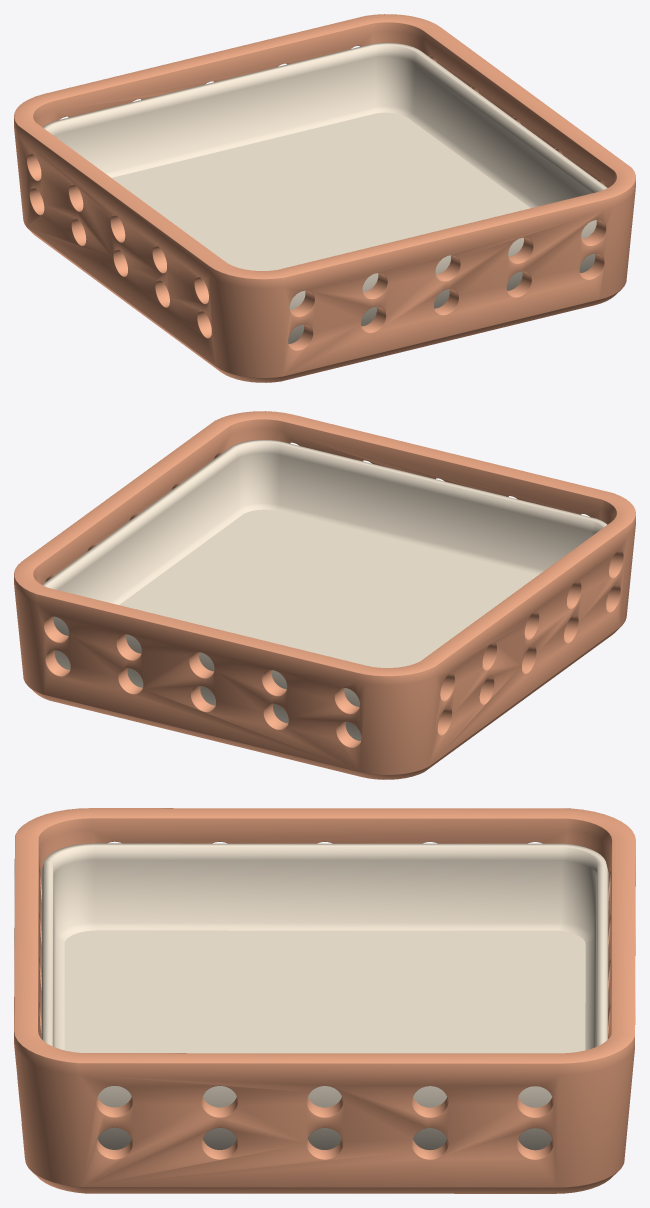
File: basket-BederzvH.glb
3 views of the same model, one above another, from view 1: azimuth 30°, elevation 25°; view 2: azimuth 150°, elevation 25°; view 3: azimuth 270°, elevation 25° (orthographic). The views are drawn at different scales.
Parts seen in each view (by area): view 1: basket_shell, basket_liner; view 2: basket_shell, basket_liner; view 3: basket_liner, basket_shell.
Part boxes in pixels (bbox=[...]): basket_shell: bbox=[14, 14, 635, 382]; basket_liner: bbox=[43, 42, 607, 343]; basket_shell: bbox=[14, 411, 635, 779]; basket_liner: bbox=[42, 439, 607, 740]; basket_liner: bbox=[41, 843, 608, 1150]; basket_shell: bbox=[14, 808, 635, 1193].
Size of the model in its own units: 1.38 by 0.35 by 1.42.
